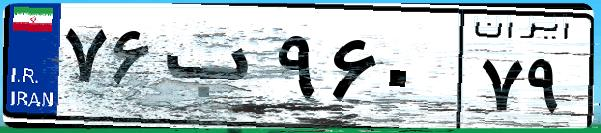0: (385, 28, 445, 110)
6: (330, 28, 385, 110), (110, 28, 158, 98)
7: (57, 26, 110, 100), (475, 38, 525, 113)
9: (270, 28, 330, 110), (525, 38, 570, 115)
ب: (158, 20, 270, 120)
